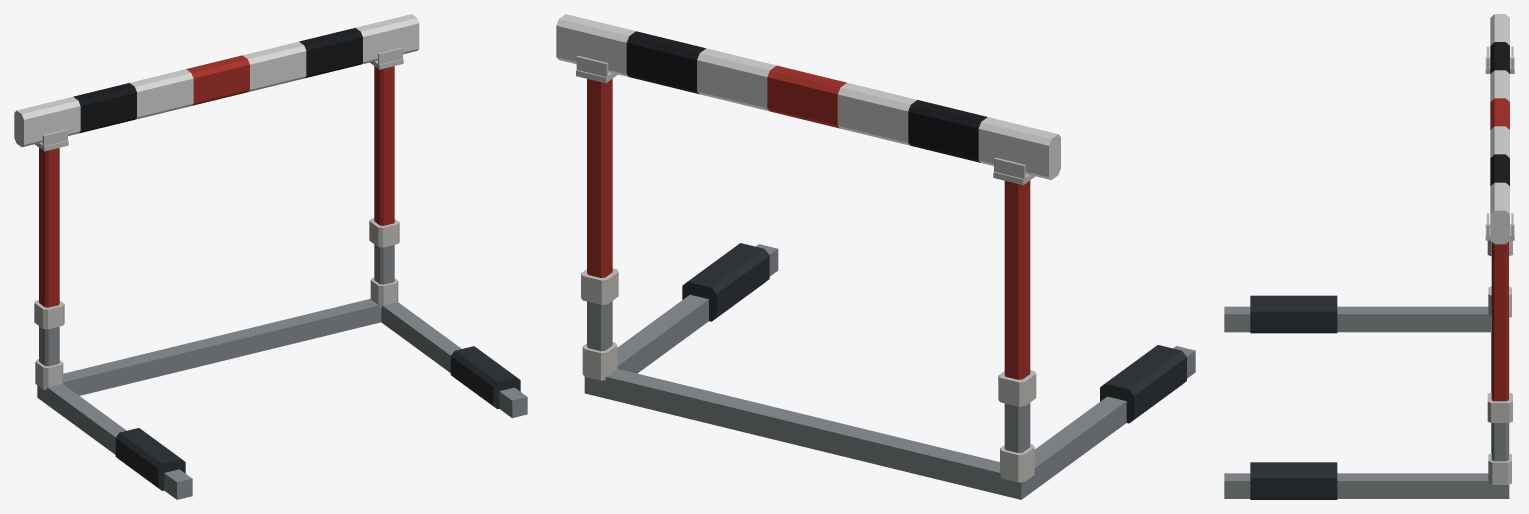
The model's file is athletics-hurdle-164f6f.glb.
The picture shows the model from 3 angles, left to right: view 1: azimuth 30°, elevation 25°; view 2: azimuth 150°, elevation 25°; view 3: azimuth 270°, elevation 25°; orthographic projection. The views are drawn at different scales.
Visible parts, largest first — view 1: hurdle-frame, top-bar-mesh; view 2: hurdle-frame, top-bar-mesh; view 3: hurdle-frame, top-bar-mesh.
Boxes of the visible parts, x1,y1,x2,y2 form: hurdle-frame: [34, 47, 527, 499]; top-bar-mesh: [14, 14, 419, 147]; hurdle-frame: [576, 56, 1195, 499]; top-bar-mesh: [556, 14, 1060, 179]; hurdle-frame: [1224, 46, 1514, 499]; top-bar-mesh: [1490, 14, 1509, 244].
Bounding box in the file's own units: 1.18 × 0.838 × 0.737.
